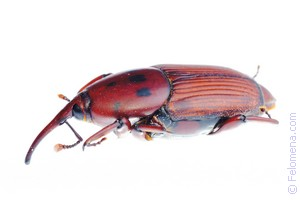dolgonosik: (19, 61, 282, 170)
